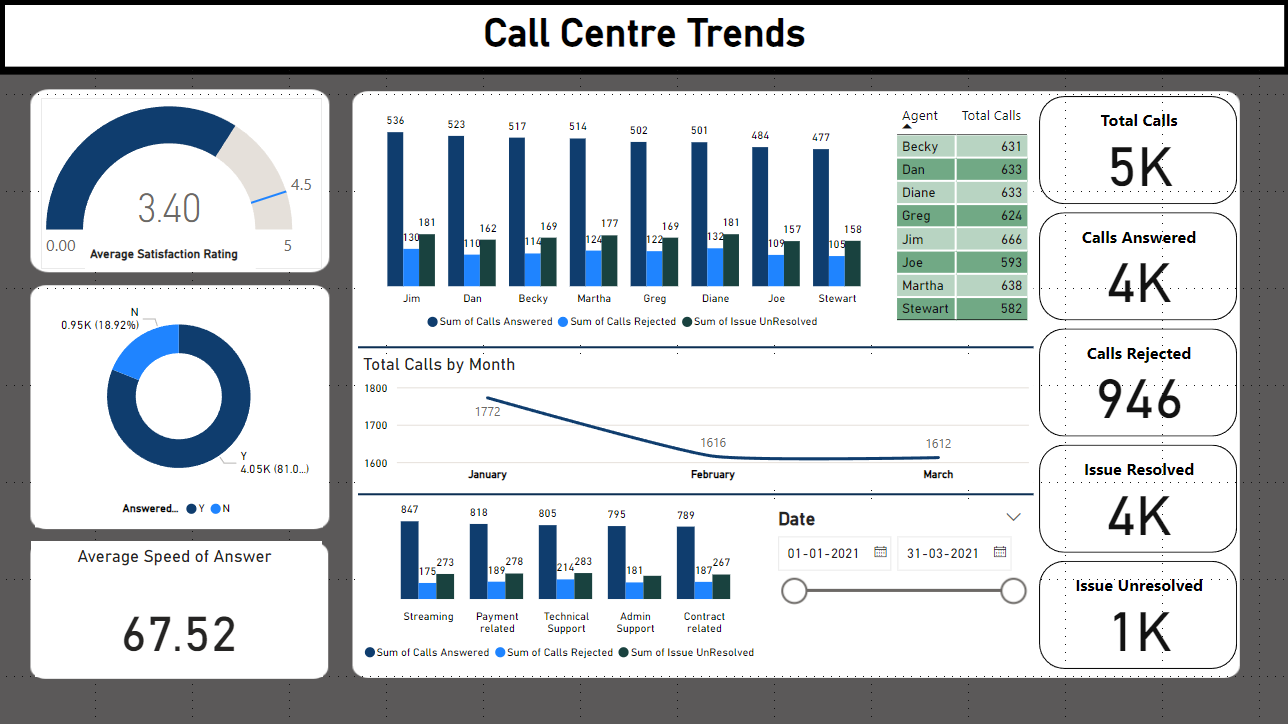

The dashboard page shown, as its layout file describes it:
{"tool":"powerbi","page":{"name":"Perfomance Report","canvas":[1280,720],"ordinal":0},"visuals":[{"type":"cardVisual","fields":{"Data":["Sheet1.Total Calls","Sheet1.Calls Answered","Sheet1.Calls Rejected","Sheet1.Issue Resolved","Sheet1.Issue Not Resolved"]},"box":[1025,93.1,206.6,579.9],"z":0},{"type":"clusteredColumnChart","fields":{"Category":["Sheet1.Agent"],"Y":["Sheet1.Calls Answered","Sheet1.Calls Rejected","Sheet1.Issue UnResolved"]},"box":[356.5,100.2,527.6,240.3],"z":1000},{"type":"tableEx","fields":{"Values":["Sheet1.Agent","Sheet1.Total Calls"]},"box":[884,100.2,141,240.3],"z":2000},{"type":"shape","box":[356.5,340.5,668.6,12.4],"z":3000},{"type":"lineChart","fields":{"Y":["Sheet1.Total Calls"],"Category":["Sheet1.Date.Variation.Date Hierarchy.Month"]},"box":[356.5,352.9,668.6,133],"z":4000},{"type":"clusteredColumnChart","fields":{"Y":["Sheet1.Calls Answered","Sheet1.Calls Rejected","Sheet1.Issue UnResolved"],"Category":["Sheet1.Topic"]},"box":[356.5,485.9,402.6,180.9],"z":5000},{"type":"gauge","fields":{"Y":["Sheet1.Satisfaction rating"],"MaxValue":["Sum(Sheet1.Satisfaction rating)1"]},"box":[42.6,100.2,278.4,169.4],"z":6000},{"type":"shape","box":[356.5,485.9,668.6,12.4],"z":7000},{"type":"textbox","box":[86,239.4,169.4,30.1],"z":8000},{"type":"card","fields":{"Values":["Sheet1.Speed of answer in seconds"]},"box":[36.4,576.4,284.6,96.7],"z":9000},{"type":"donutChart","fields":{"Y":["Sheet1.Calls Answered"],"Category":["Sheet1.Answered (Y/N)"]},"box":[36.4,292.6,284.6,232.3],"z":10000},{"type":"textbox","box":[32.8,538.2,288.2,38.1],"z":11000},{"type":"slicer","fields":{"Values":["Sheet1.Date"]},"box":[758.7,500.9,266.5,166.3],"z":12000},{"type":"textbox","box":[7.1,8,1266.2,61.2],"z":13000}]}

Visuals, with their boxes in screenshot pixels (x1, y1, x2, y2), scaled from the page's 1280x720 canvas onto the 1288x724 screenshot:
cardVisual - Sheet1.Total Calls x Sheet1.Calls Answered: <region>1031, 94, 1239, 677</region>
clusteredColumnChart - Sheet1.Agent x Sheet1.Calls Answered: <region>359, 101, 890, 342</region>
tableEx - Sheet1.Agent x Sheet1.Total Calls: <region>890, 101, 1031, 342</region>
shape: <region>359, 342, 1032, 355</region>
lineChart - Sheet1.Total Calls x Sheet1.Date.Variation.Date Hierarchy.Month: <region>359, 355, 1032, 489</region>
clusteredColumnChart - Sheet1.Calls Answered x Sheet1.Calls Rejected: <region>359, 489, 764, 671</region>
gauge - Sheet1.Satisfaction rating x Sum(Sheet1.Satisfaction rating)1: <region>43, 101, 323, 271</region>
shape: <region>359, 489, 1032, 501</region>
textbox: <region>87, 241, 257, 271</region>
card - Sheet1.Speed of answer in seconds: <region>37, 580, 323, 677</region>
donutChart - Sheet1.Calls Answered x Sheet1.Answered (Y/N): <region>37, 294, 323, 528</region>
textbox: <region>33, 541, 323, 580</region>
slicer - Sheet1.Date: <region>763, 504, 1032, 671</region>
textbox: <region>7, 8, 1281, 70</region>
